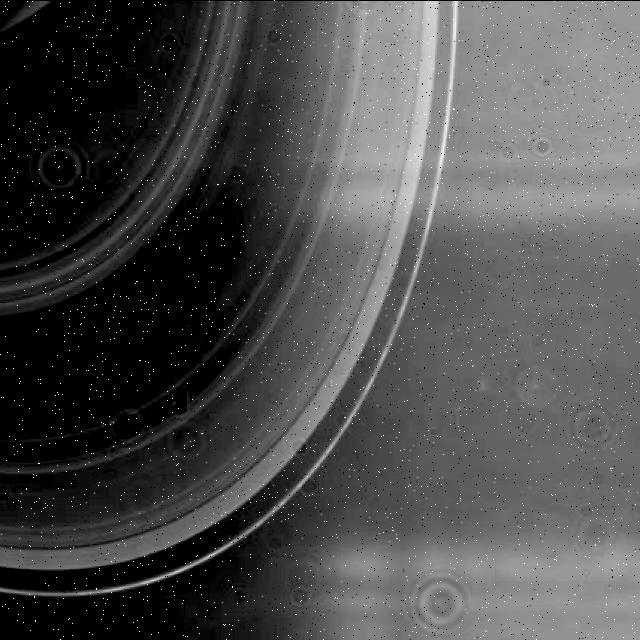Saturn: (1, 0, 460, 592)
